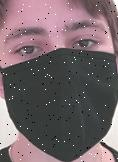with_mask: (1, 1, 118, 162)
